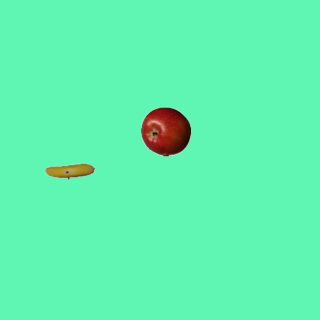Apple Braeburn: (140, 106, 190, 156)
Banana: (44, 146, 94, 196)
